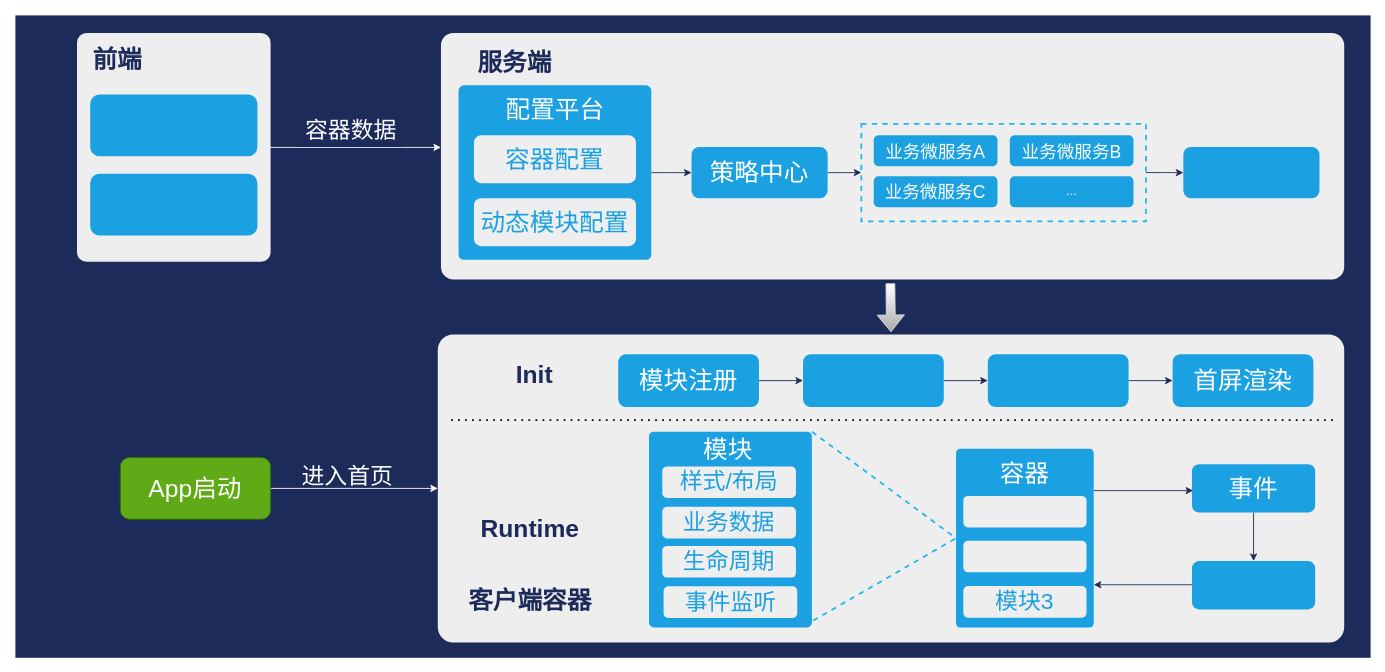
Some shapes in this 1385 by 672 pixel diagram are drawn without their labels. Each missing label, with the centre of its shape:
"容器服务" goes at point (1251, 172).
"数据解析" goes at point (873, 380).
"数据配置" goes at point (173, 204).
"模块1" goes at point (1024, 511).
"模块2" goes at point (1024, 556).
"模块创建" goes at point (1057, 380).
"状态" goes at point (1253, 585).
"页面搭建" goes at point (173, 125).
